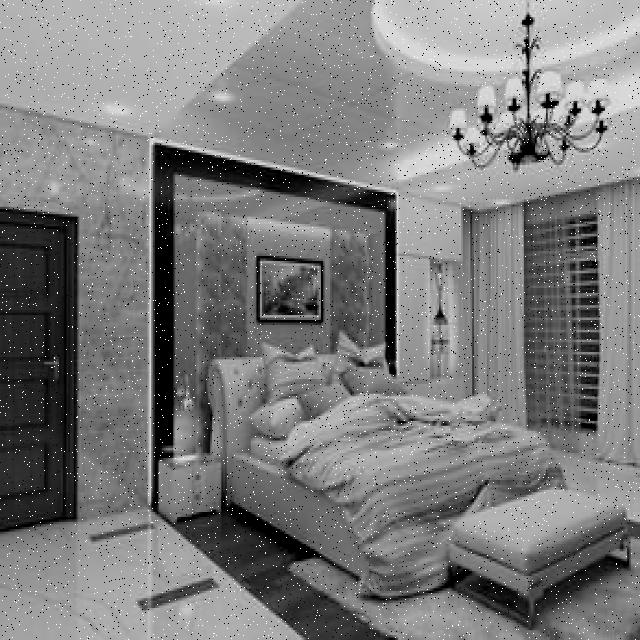bed: (248, 332, 566, 595)
